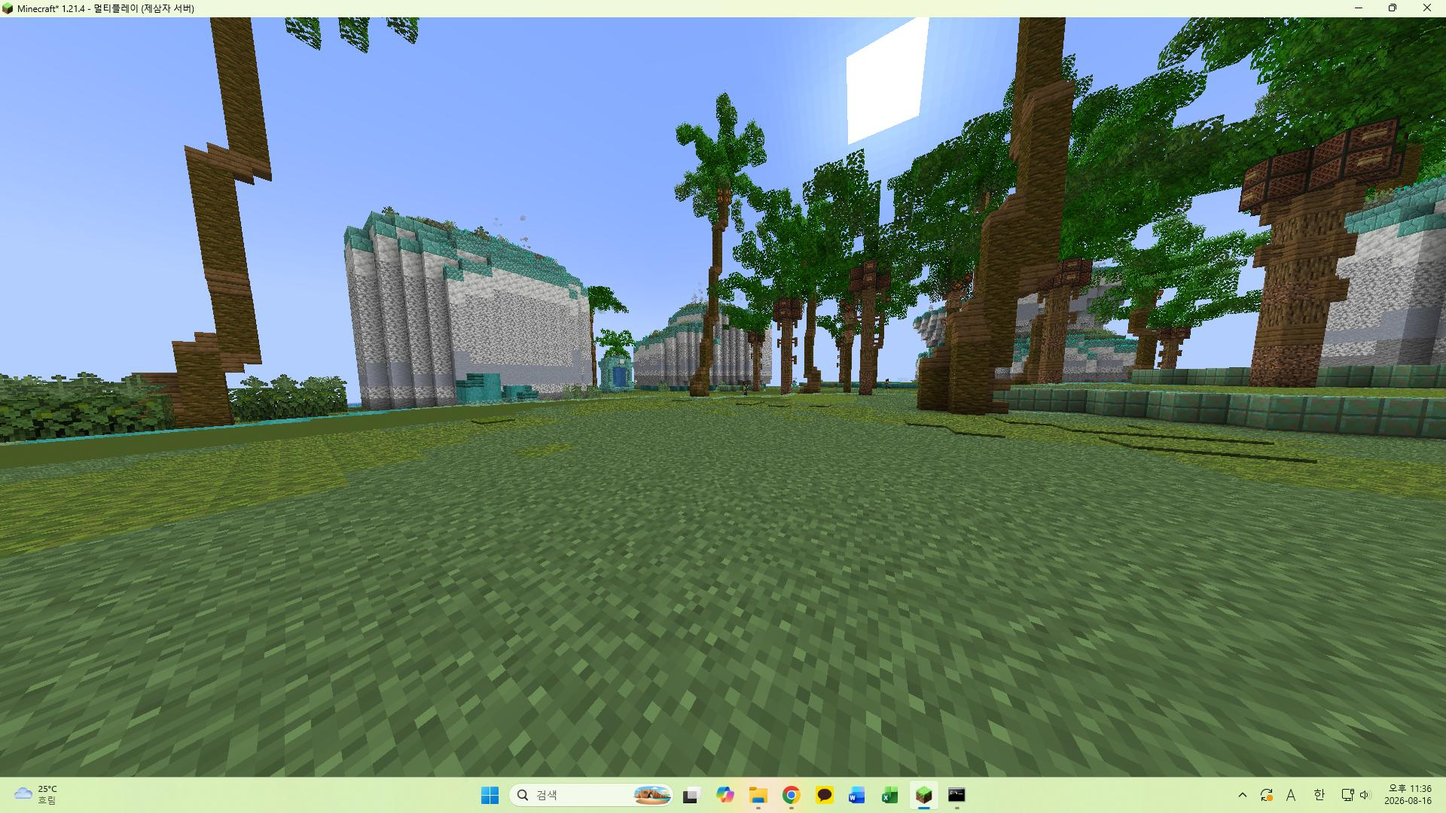Guardian: (743, 379, 749, 394)
